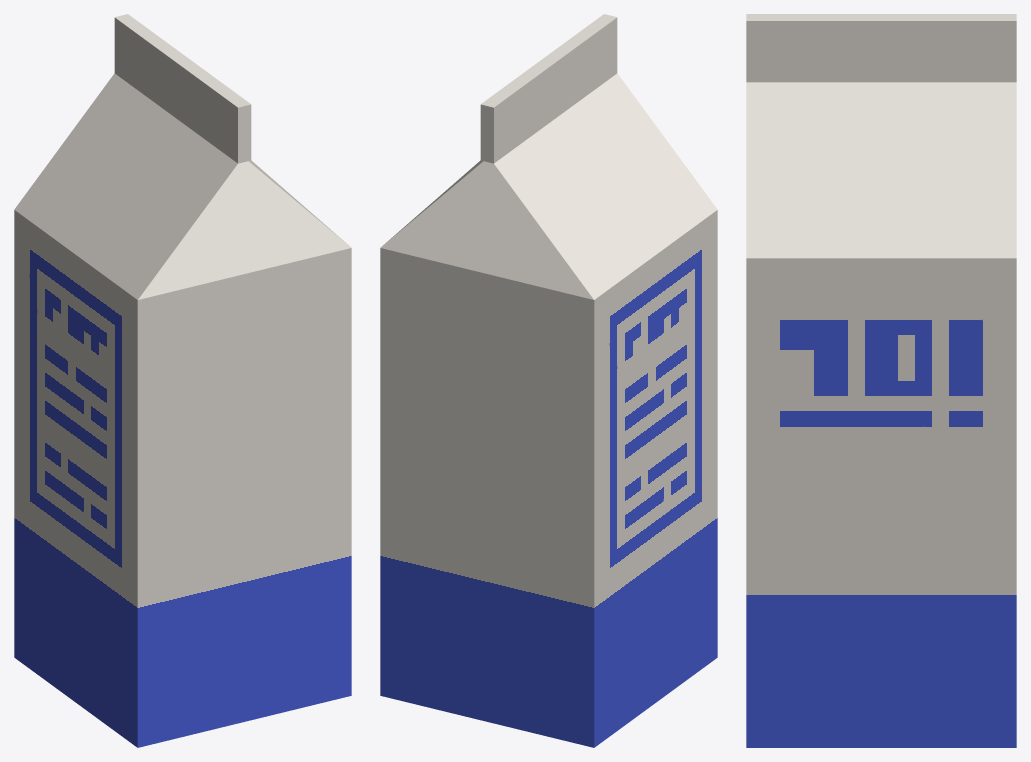
The model's file is carton.gltf.
3 views of the same model, side by side, from view 1: azimuth 30°, elevation 25°; view 2: azimuth 150°, elevation 25°; view 3: azimuth 270°, elevation 25° (orthographic). The views are drawn at different scales.
Parts seen in each view (by area): view 1: cube; view 2: cube; view 3: cube.
Part boxes in pixels (x1,y1,x2,y2): cube: (14, 14, 351, 747); cube: (380, 14, 717, 747); cube: (746, 14, 1016, 747).
Bounding box in the file's own units: 0.25 × 0.6875 × 0.25.
1 material, 1 textured.
